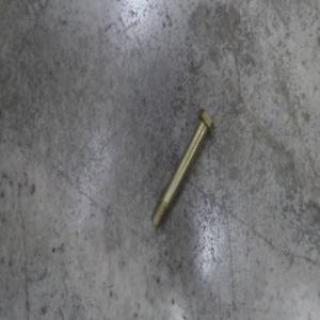Bolttrack_idkeyframe: (150, 106, 213, 231)
